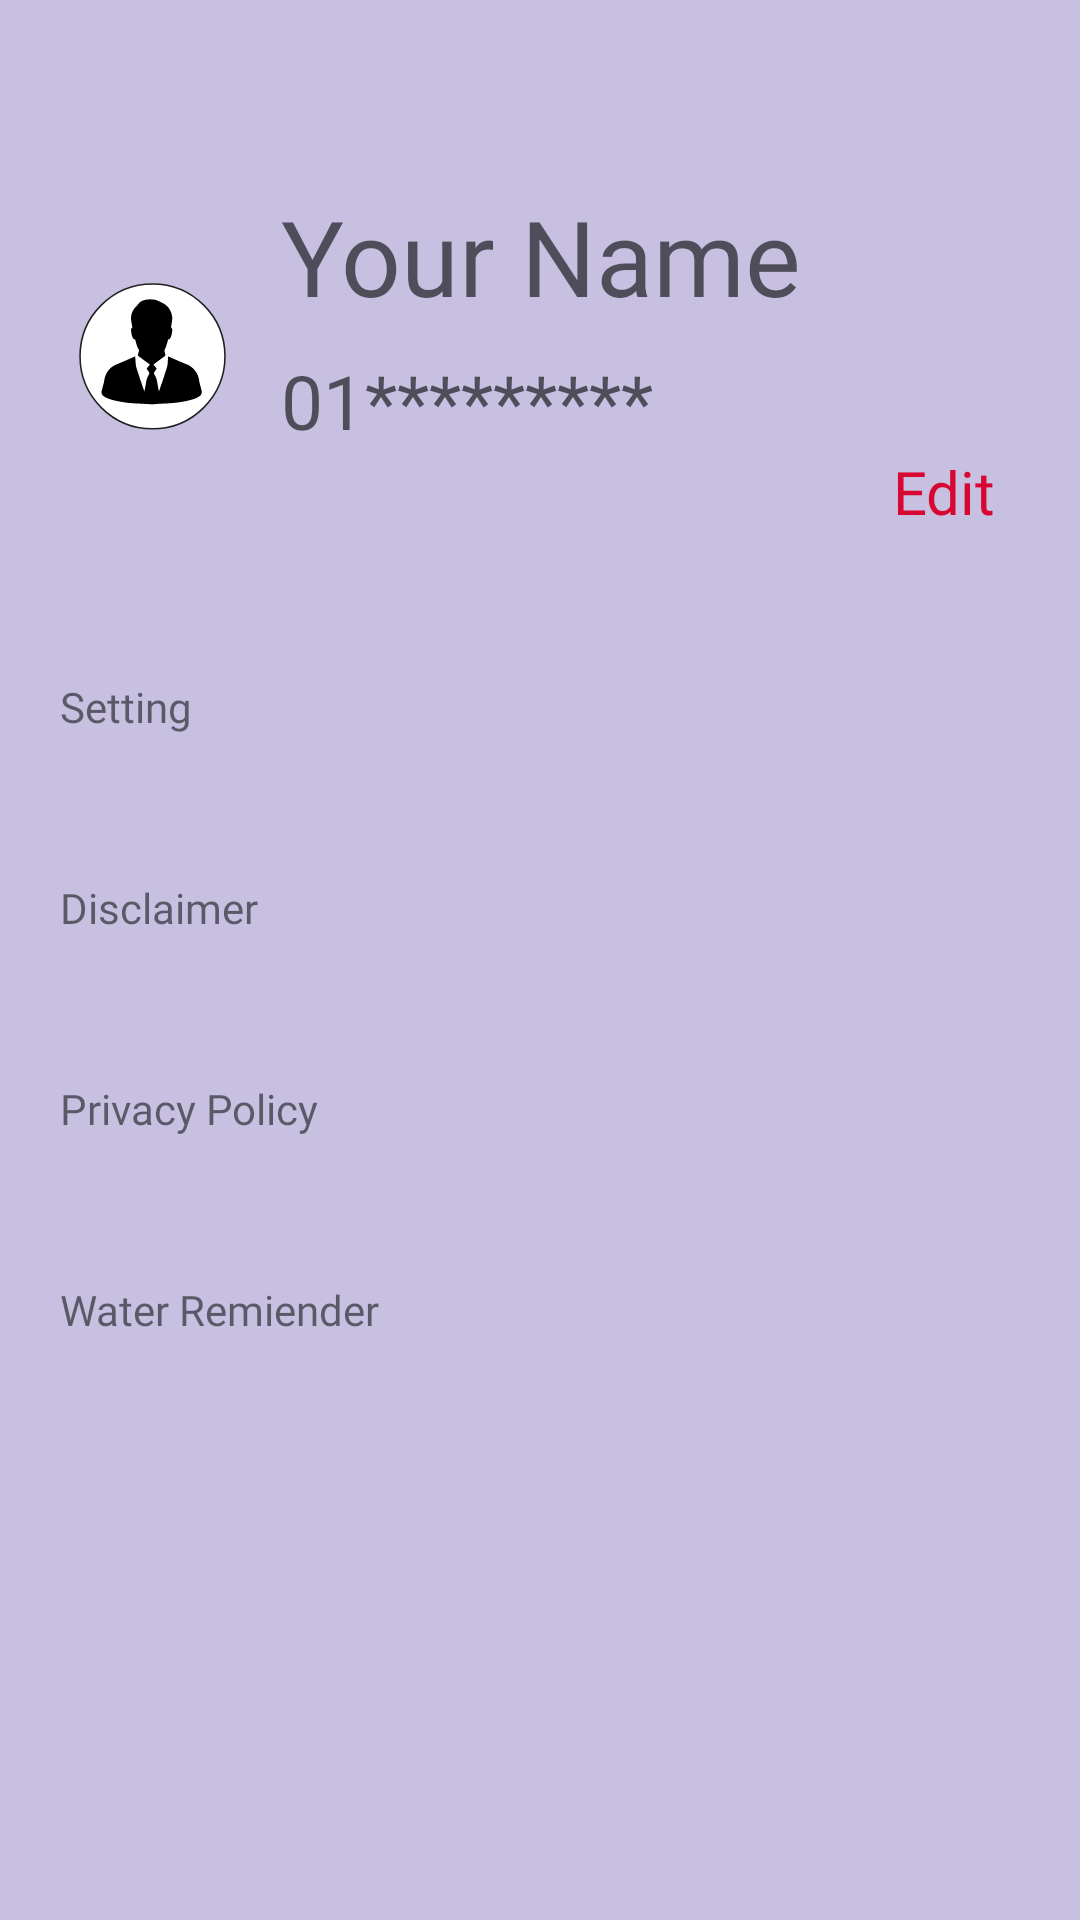

Point at icon controls on the screen. Image size 1080 x 1920, points as (x=x, y=y).
Profile Icon: (x=152, y=356)
